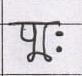anusvara: (56, 32, 62, 36)
